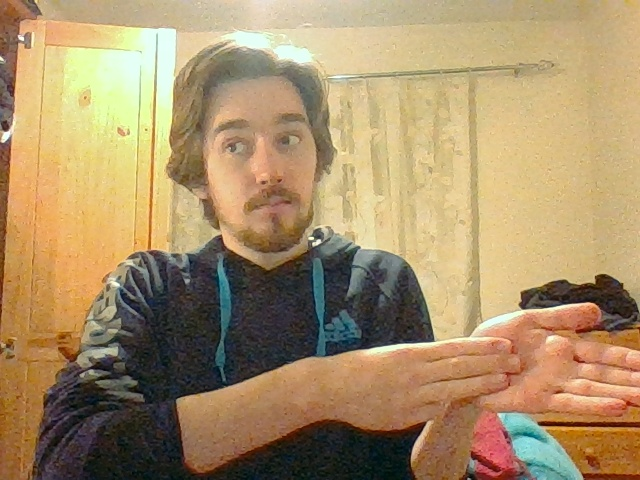mother: (439, 303, 640, 414)
